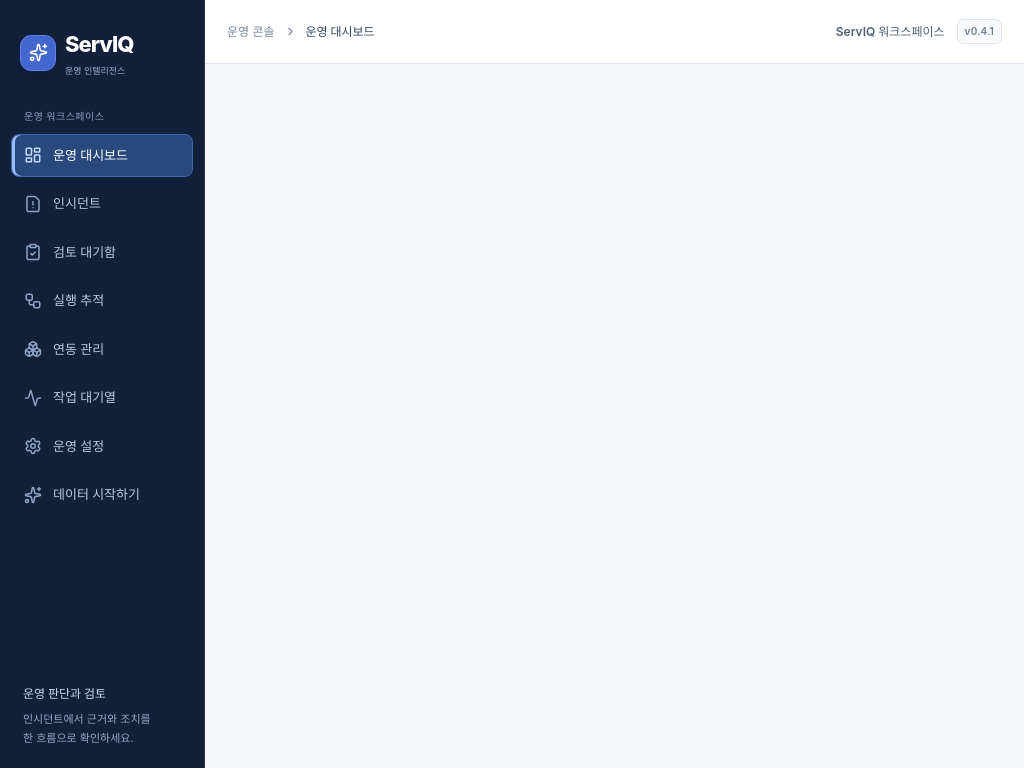
Scenario: ServIQ 운영 콘솔 › 각 운영 페이지에 접근할 수 있다
Click the button "인시던트" at (102, 204), box x1=11 y1=182 x2=193 y2=226
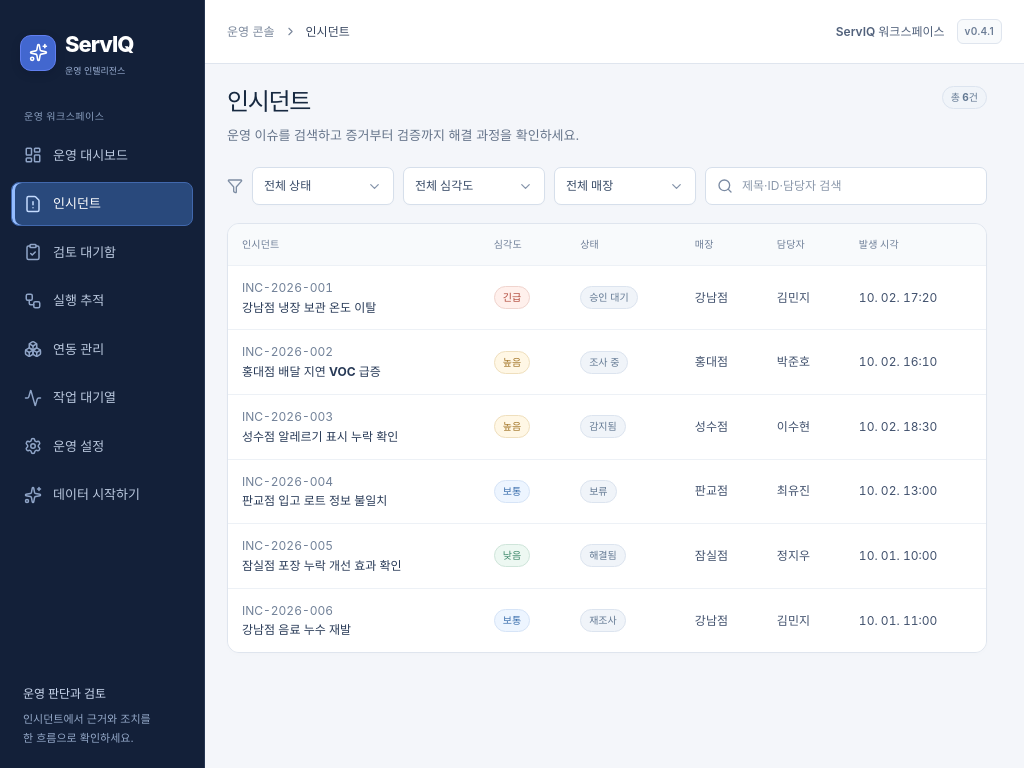
Check: the heading "인시던트" is shown, box x1=227 y1=87 x2=310 y2=116
Click the button "검토 대기함" at (102, 252), box x1=11 y1=230 x2=193 y2=274
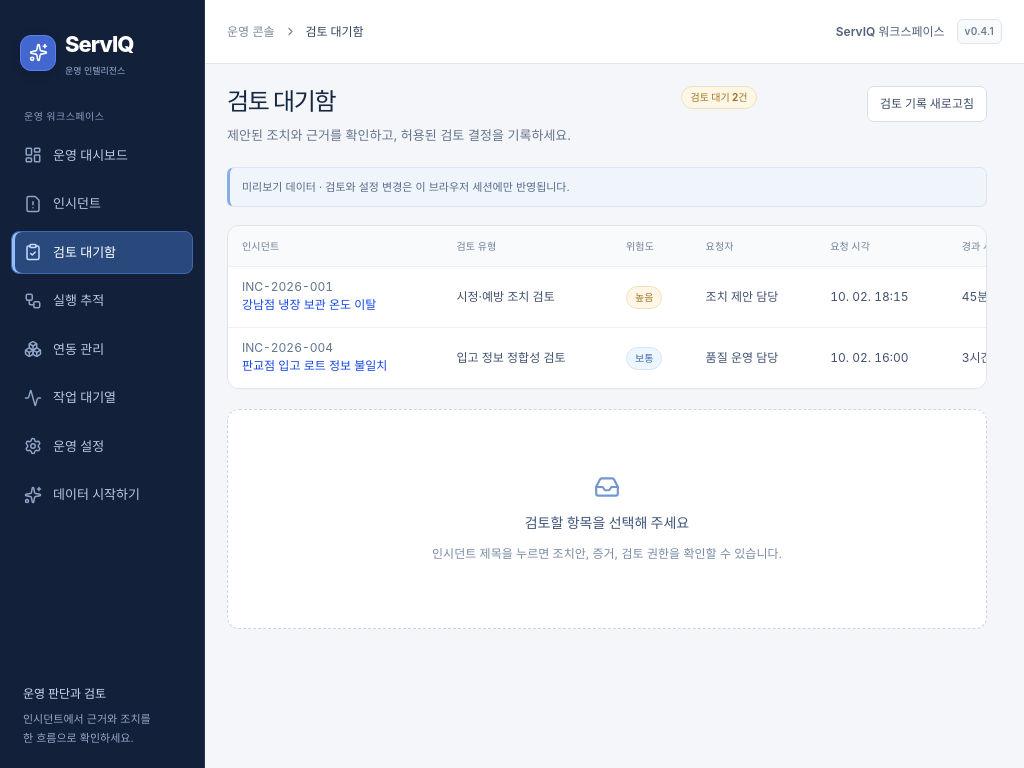
Check: the heading "검토 대기함" is shown, box x1=227 y1=87 x2=335 y2=116
Click the button "실행 추적" at (102, 301), box x1=11 y1=279 x2=193 y2=322
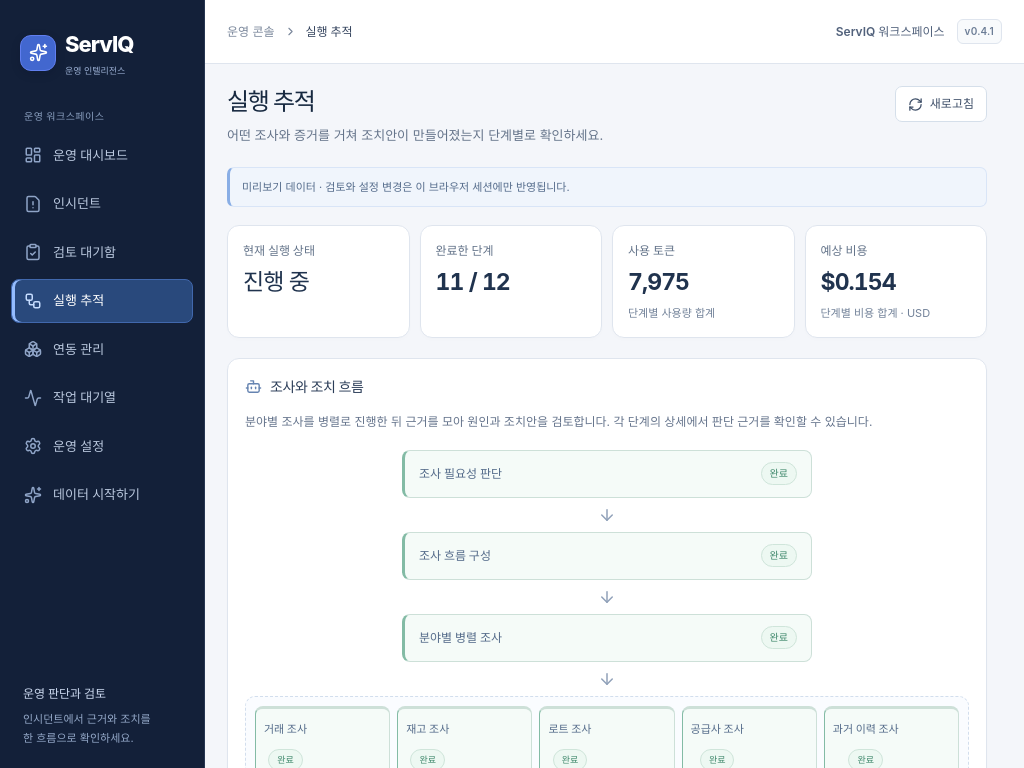
Check: the heading "실행 추적" is shown, box x1=227 y1=87 x2=314 y2=116
Click the button "연동 관리" at (102, 349), box x1=11 y1=328 x2=193 y2=371
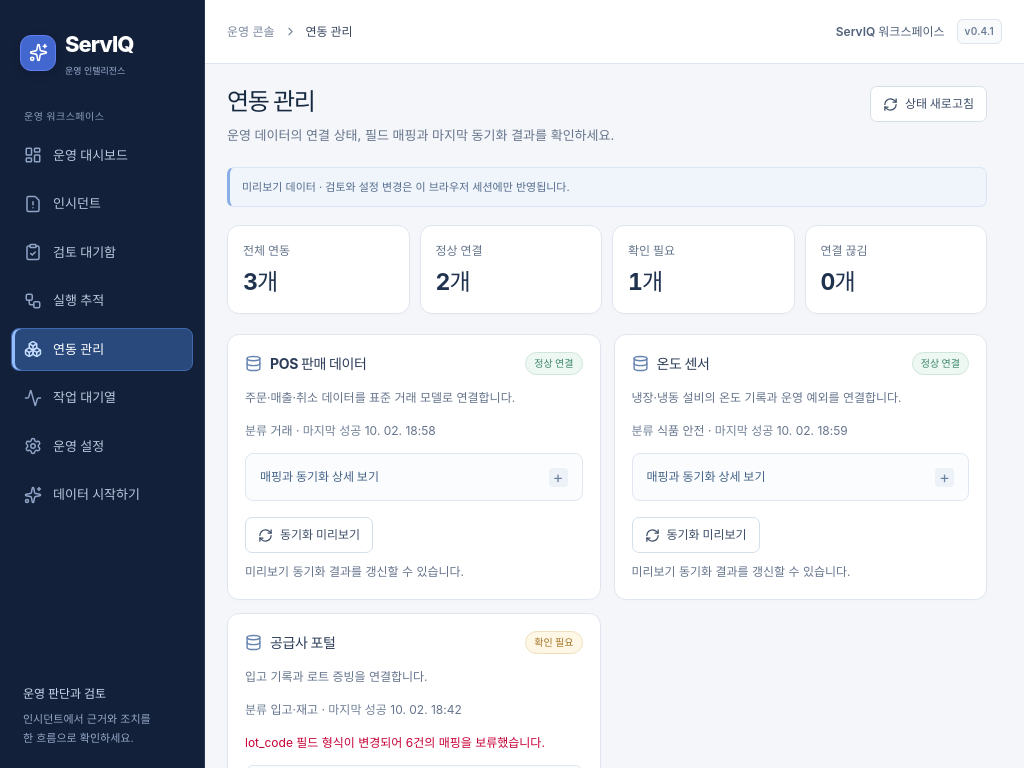
Check: the heading "연동 관리" is shown, box x1=227 y1=87 x2=314 y2=116
Click the button "작업 대기열" at (102, 398), box x1=11 y1=376 x2=193 y2=420
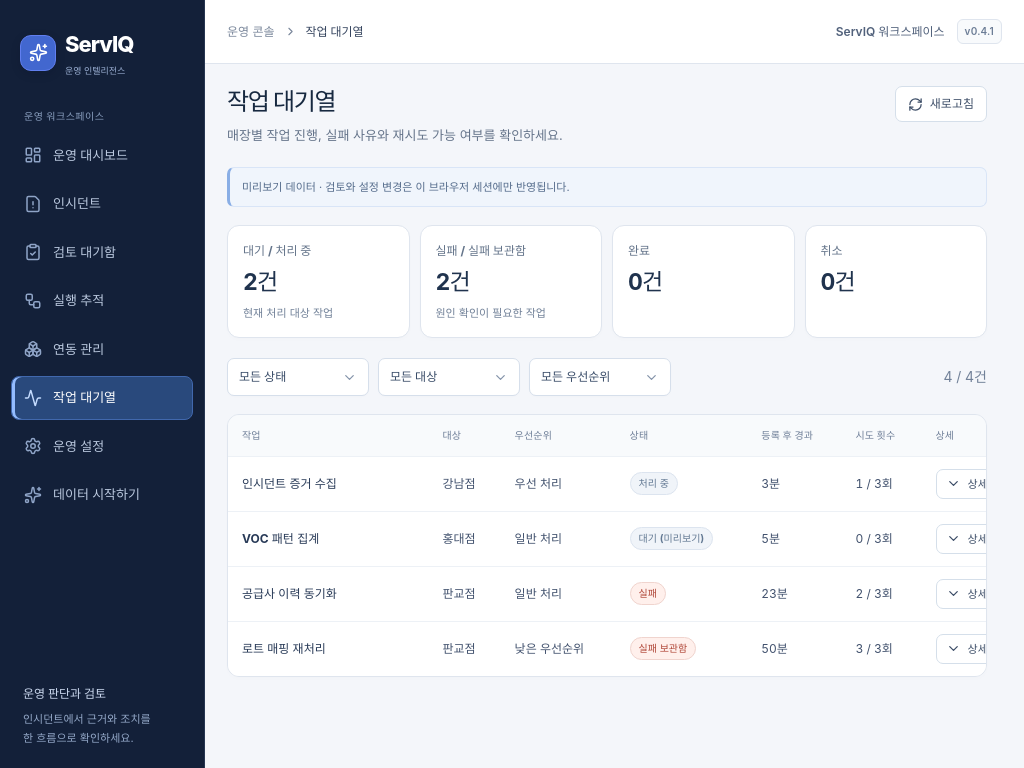
Check: the heading "작업 대기열" is shown, box x1=227 y1=87 x2=335 y2=116
Click the button "운영 설정" at (102, 446), box x1=11 y1=424 x2=193 y2=468
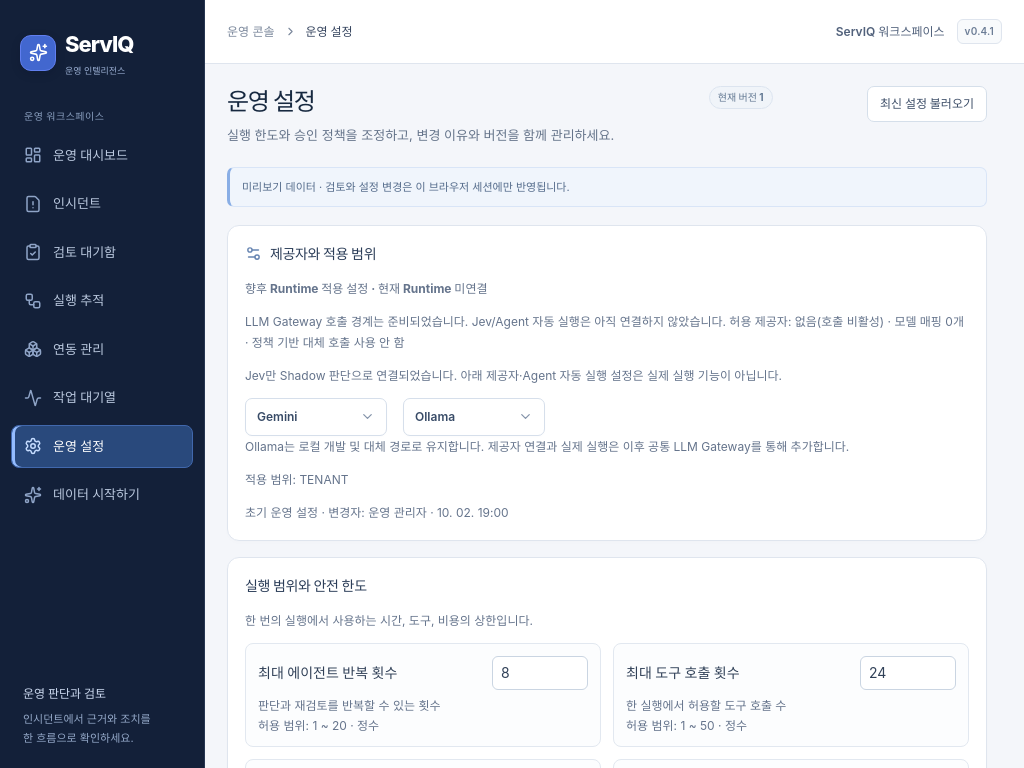
Check: the heading "운영 설정" is shown, box x1=227 y1=87 x2=314 y2=116
